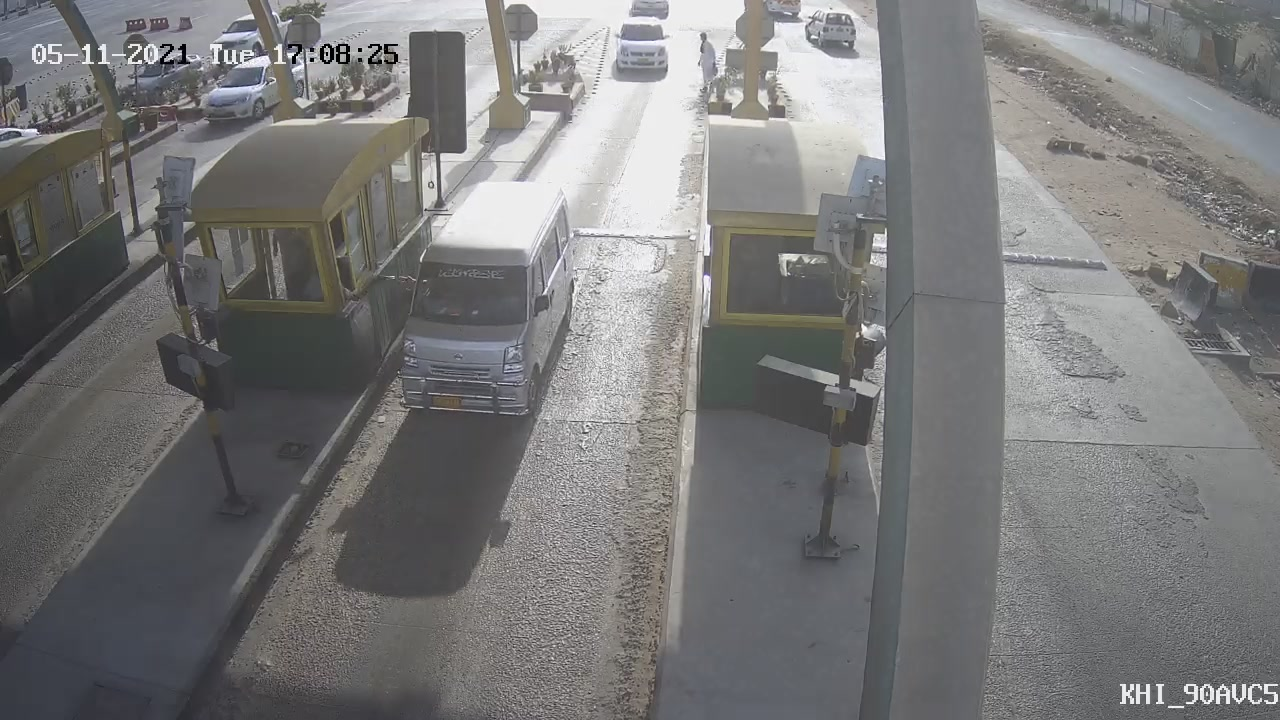F1: (365, 162, 599, 447)
